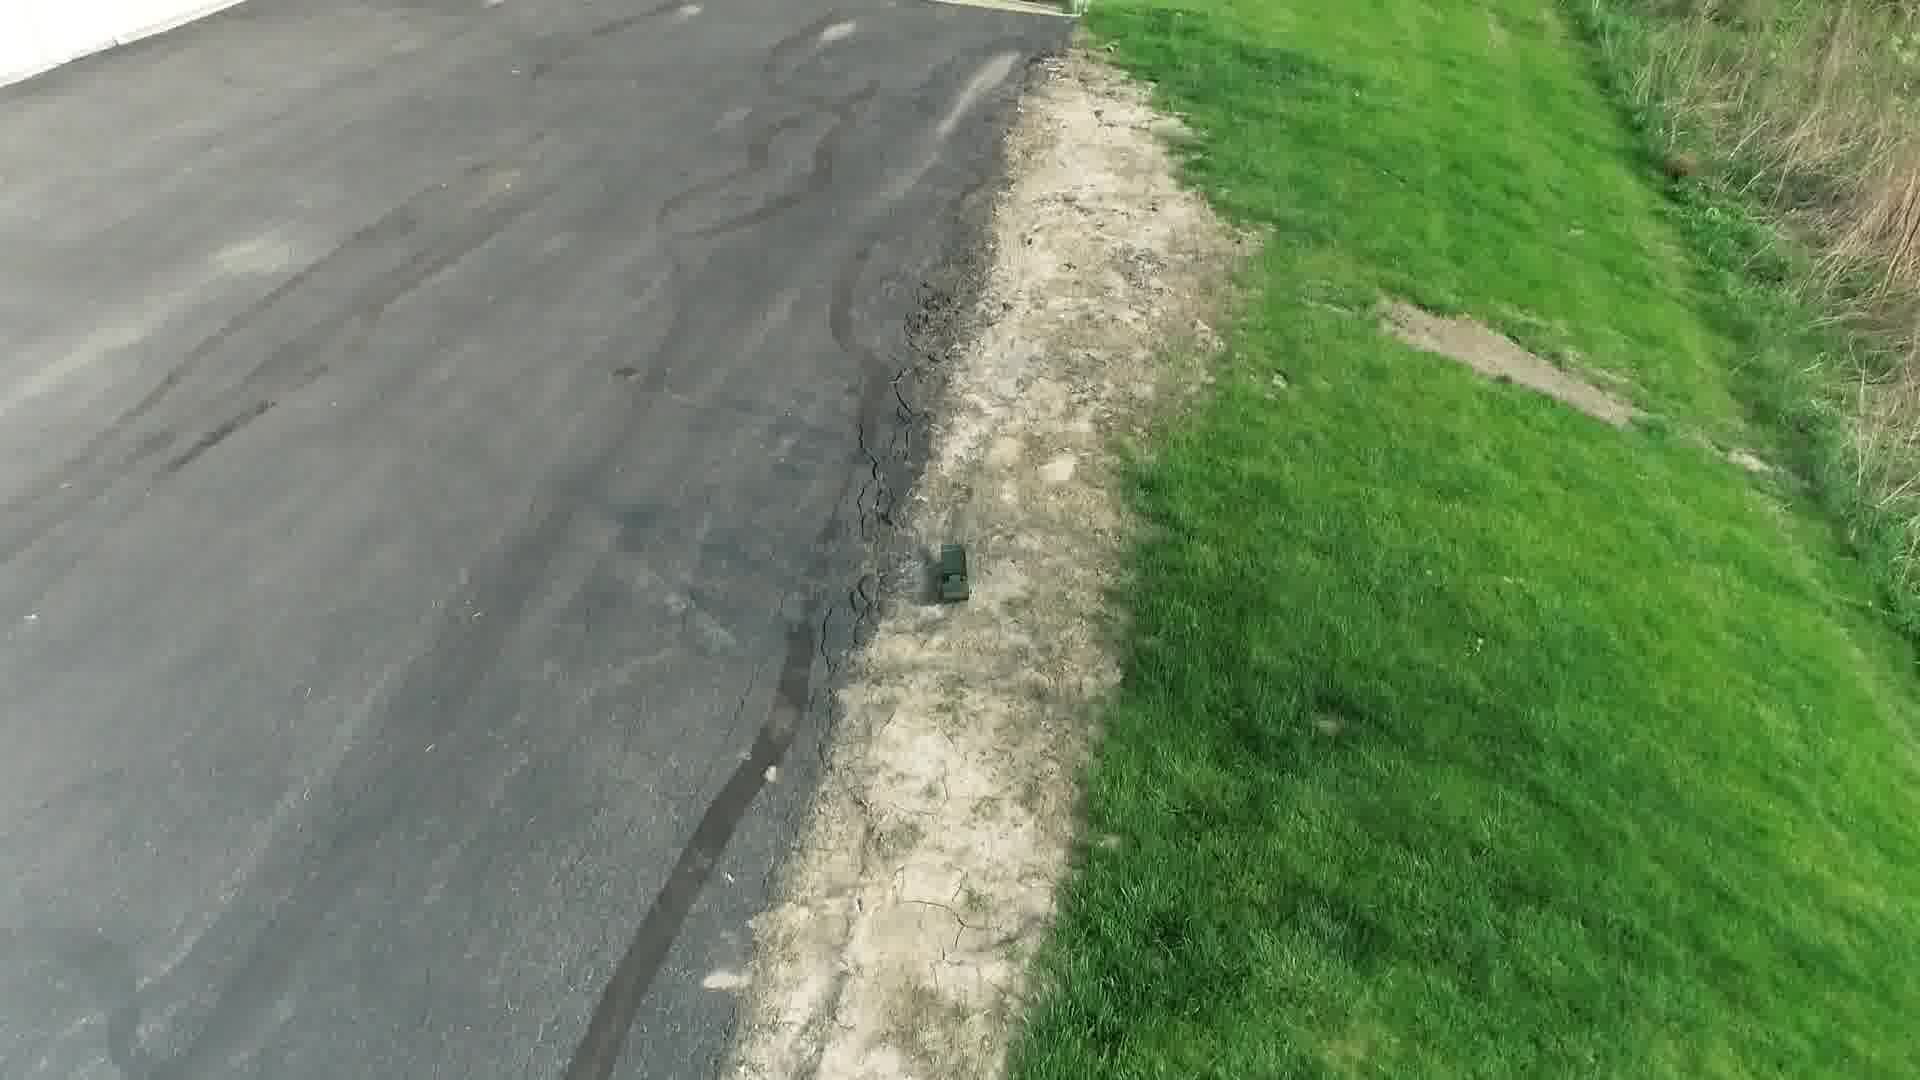transporter9: (934, 541, 973, 603)
